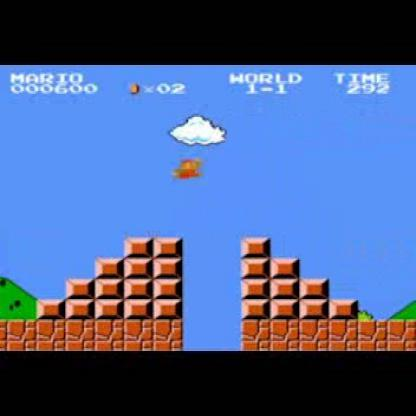Hoyo: (179, 319, 246, 351)
